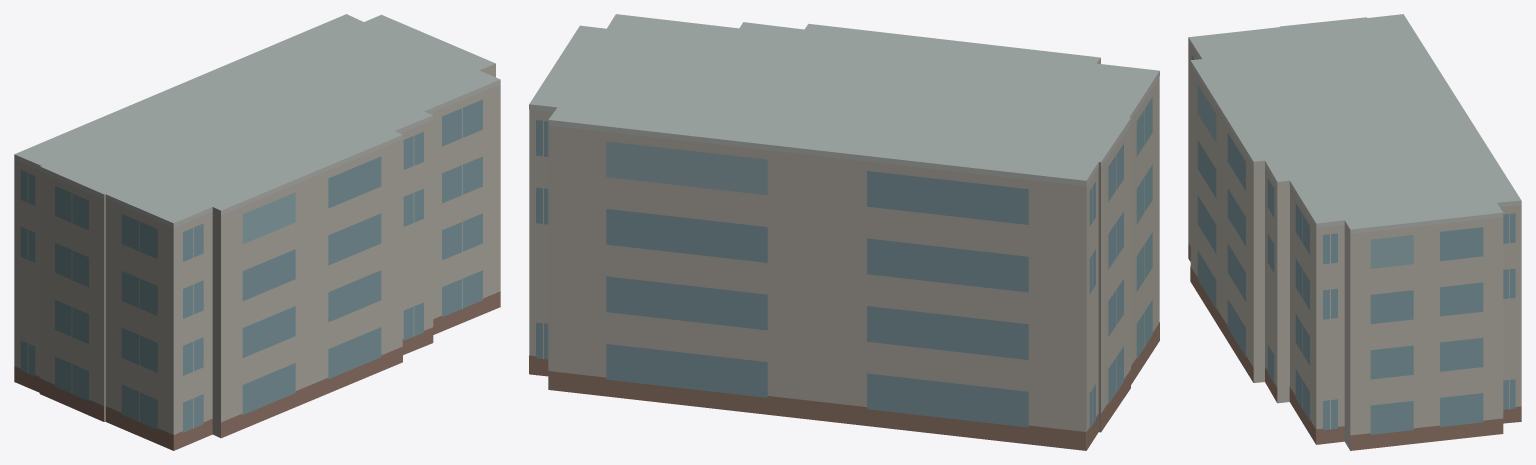
File: survey-upis-33016612.glb
3 renders of one model, left to right at view 1: azimuth 30°, elevation 25°; view 2: azimuth 150°, elevation 25°; view 3: azimuth 270°, elevation 25°, orthographic. The views are drawn at different scales.
Parts seen in each view (by area): view 1: survey-upis-33016612.tmp; view 2: survey-upis-33016612.tmp; view 3: survey-upis-33016612.tmp.
Part boxes in pixels (<box>): survey-upis-33016612.tmp: <box>14,14,500,450</box>; survey-upis-33016612.tmp: <box>529,14,1159,450</box>; survey-upis-33016612.tmp: <box>1188,14,1521,450</box>.
Size of the model in its own units: 24.97 by 11.95 by 16.31.
